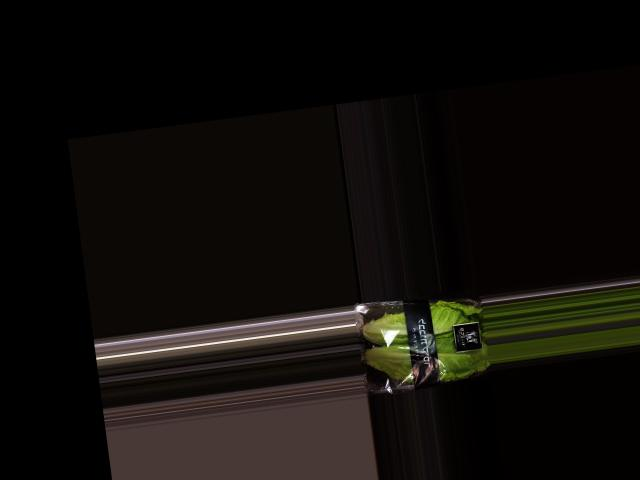lettuce: (353, 288, 490, 390)
